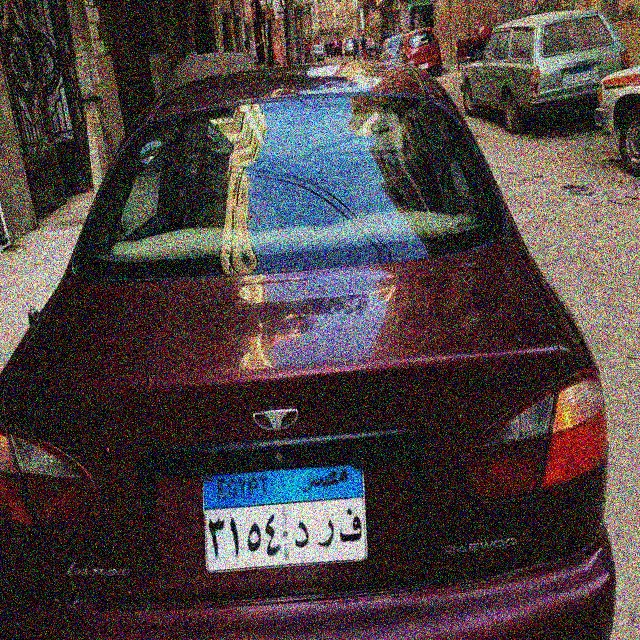License Plate: (199, 461, 371, 576)
